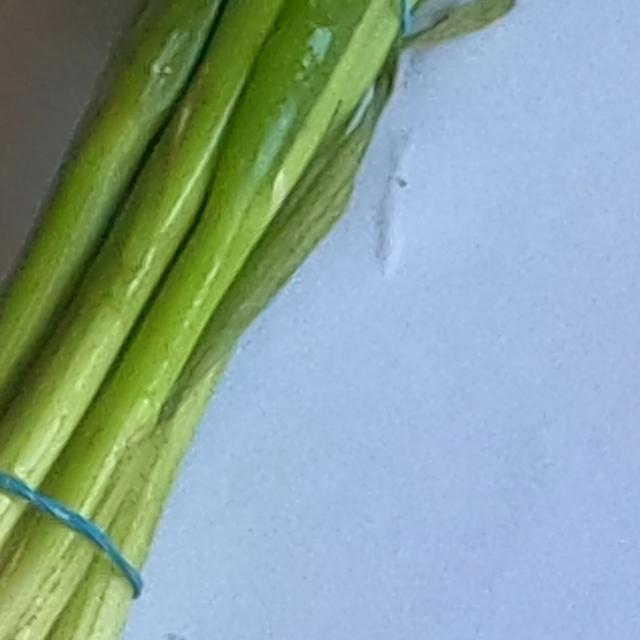green_onion: (0, 0, 519, 640)
